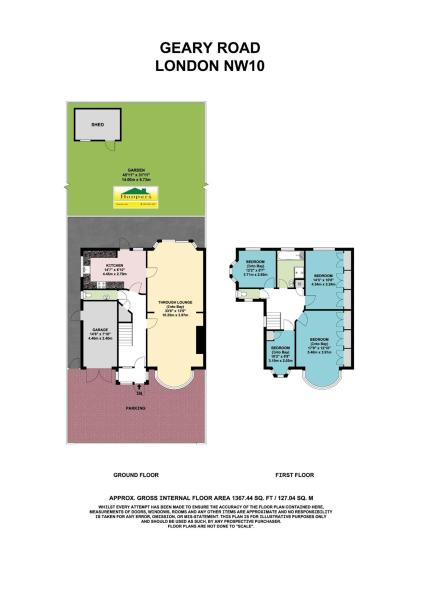GardenMeasurements: (120, 165, 156, 185)
GrossArea: (106, 492, 315, 503)
